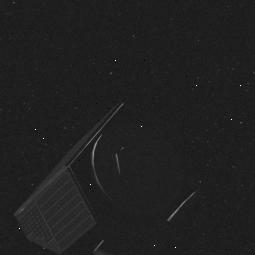cheops: (17, 102, 201, 255)
